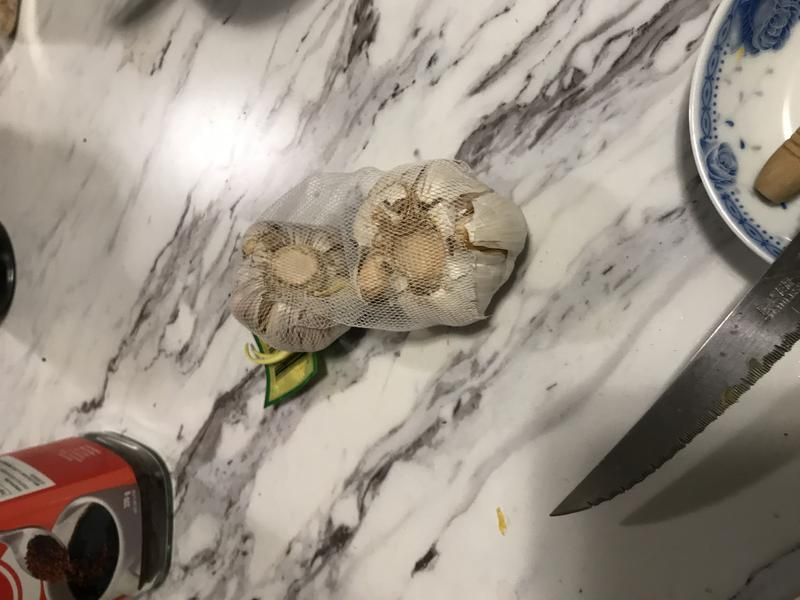garlic: (348, 155, 538, 337), (224, 216, 372, 358)
